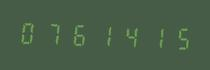five: (167, 22, 191, 53)
four: (117, 20, 141, 51)
one: (92, 19, 116, 50), (142, 21, 166, 52)
seven: (42, 17, 66, 48)
six: (67, 18, 91, 49)
zero: (17, 16, 41, 47)
